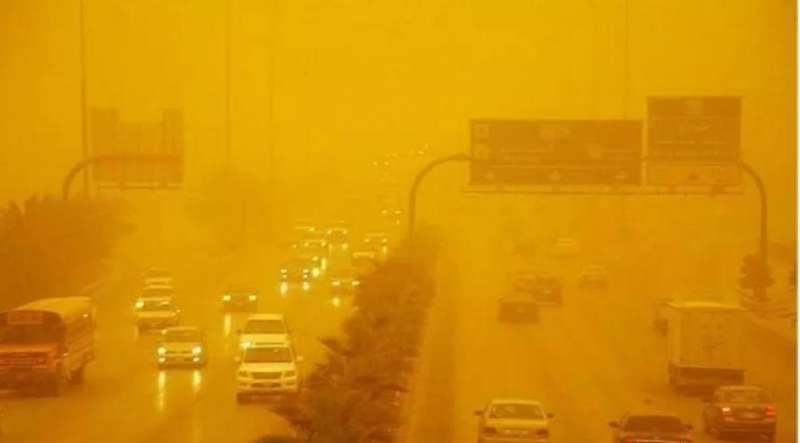bus: (1, 296, 96, 397)
car: (702, 382, 779, 440), (474, 397, 551, 441), (239, 338, 294, 392), (611, 412, 697, 442), (154, 325, 206, 368), (497, 286, 541, 324), (238, 316, 294, 344), (133, 300, 180, 333), (219, 282, 258, 310), (534, 274, 563, 307), (278, 256, 312, 282), (137, 267, 172, 291), (576, 262, 608, 288), (329, 268, 361, 293), (511, 266, 543, 289), (301, 231, 329, 254), (551, 237, 580, 258), (323, 220, 346, 241), (351, 244, 376, 262), (291, 220, 315, 236)
truck: (660, 297, 750, 396), (375, 187, 402, 219)
